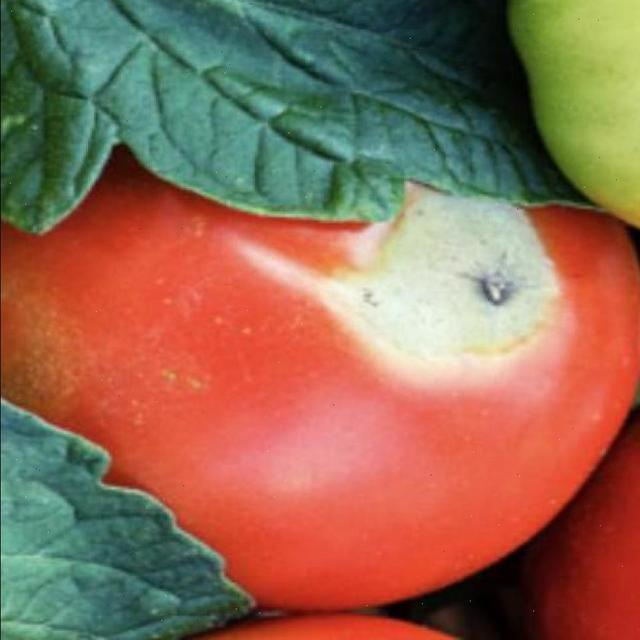Blossom End Rot Fruit: (235, 123, 387, 249)
